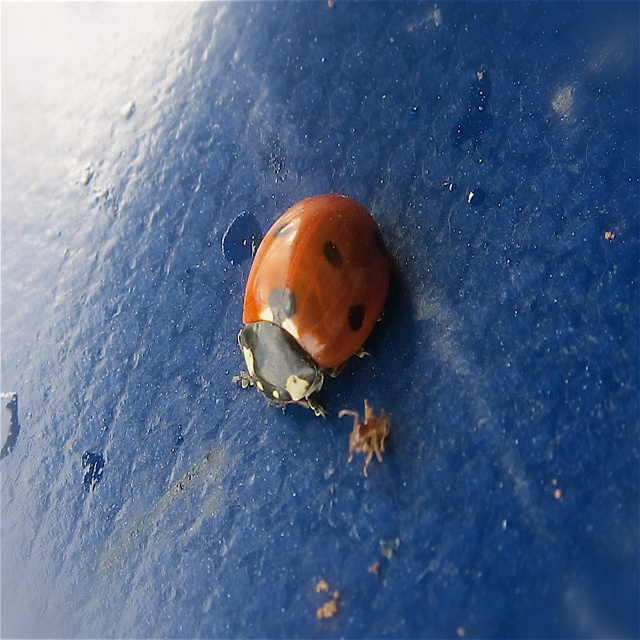Ladybug: (239, 193, 392, 413)
